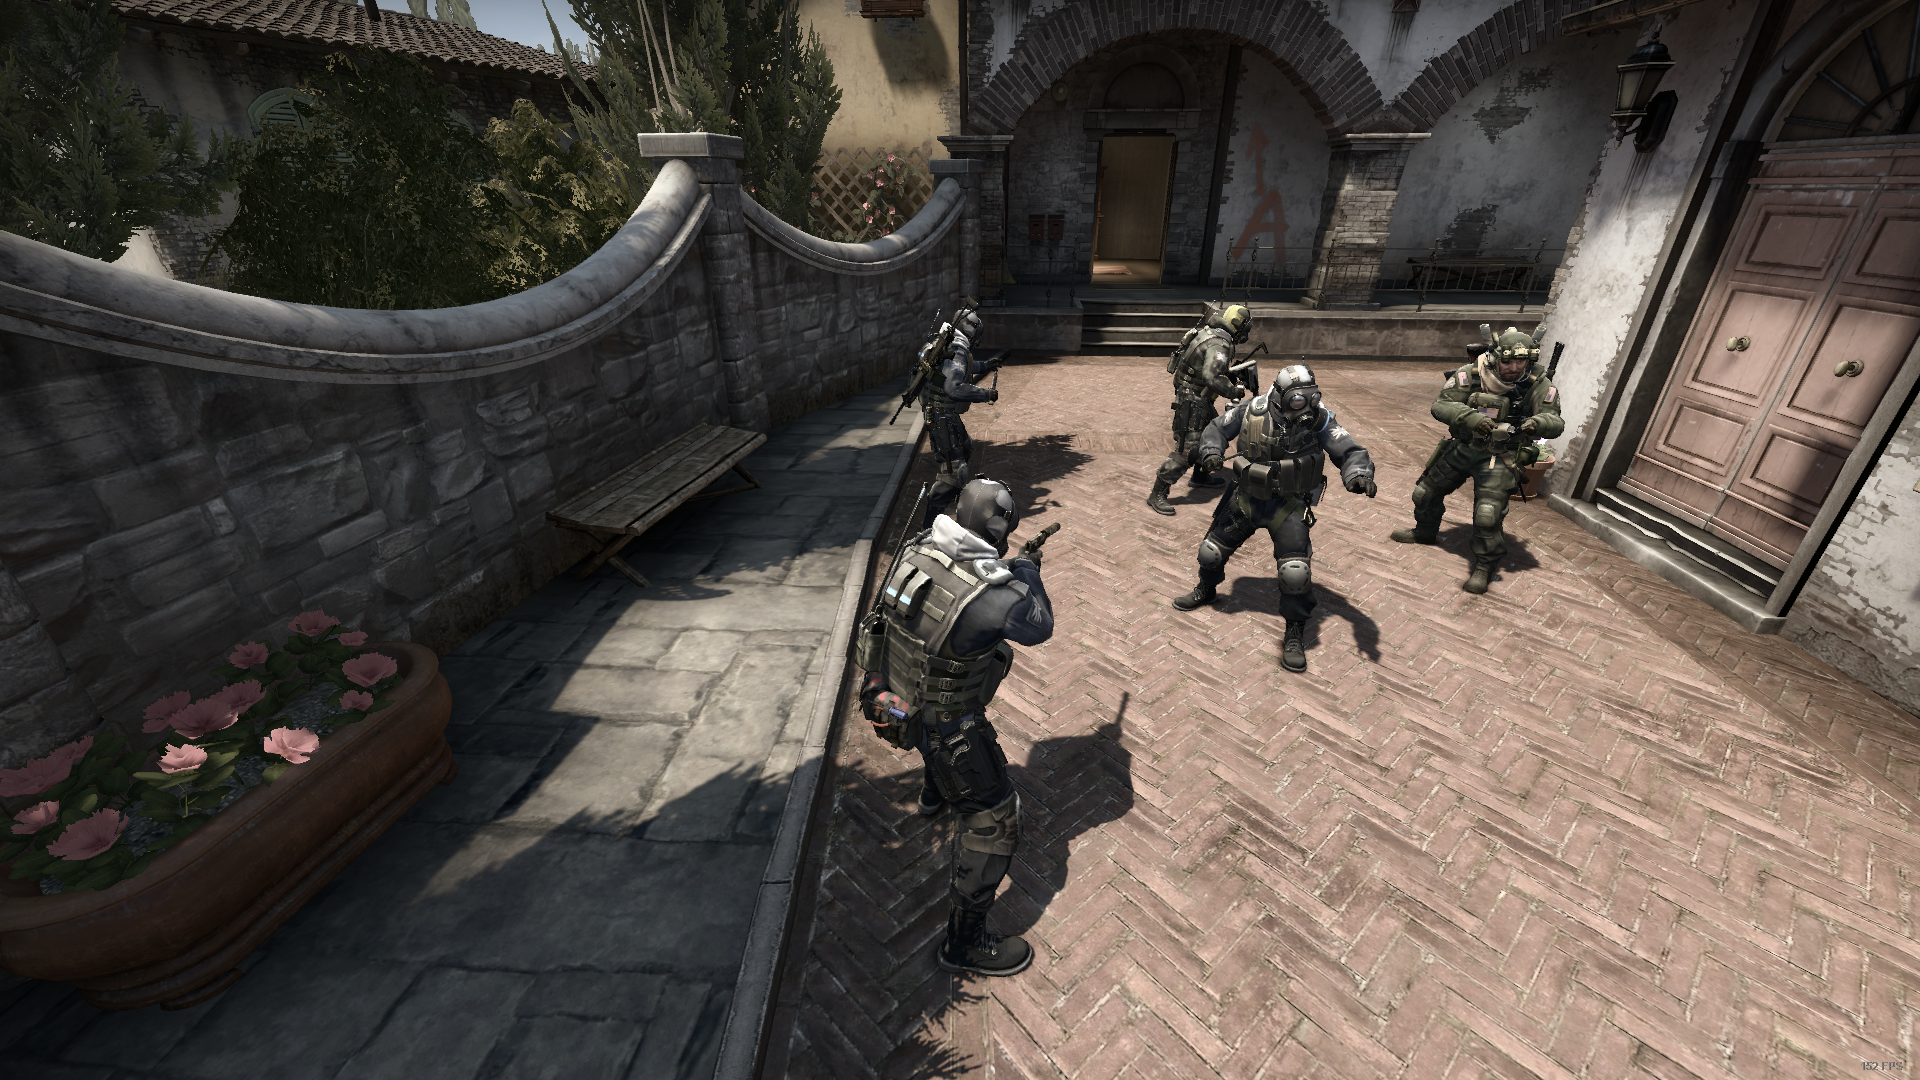ct: (852, 479, 1056, 976), (1175, 363, 1378, 686), (1150, 306, 1261, 529), (913, 306, 1001, 479)
